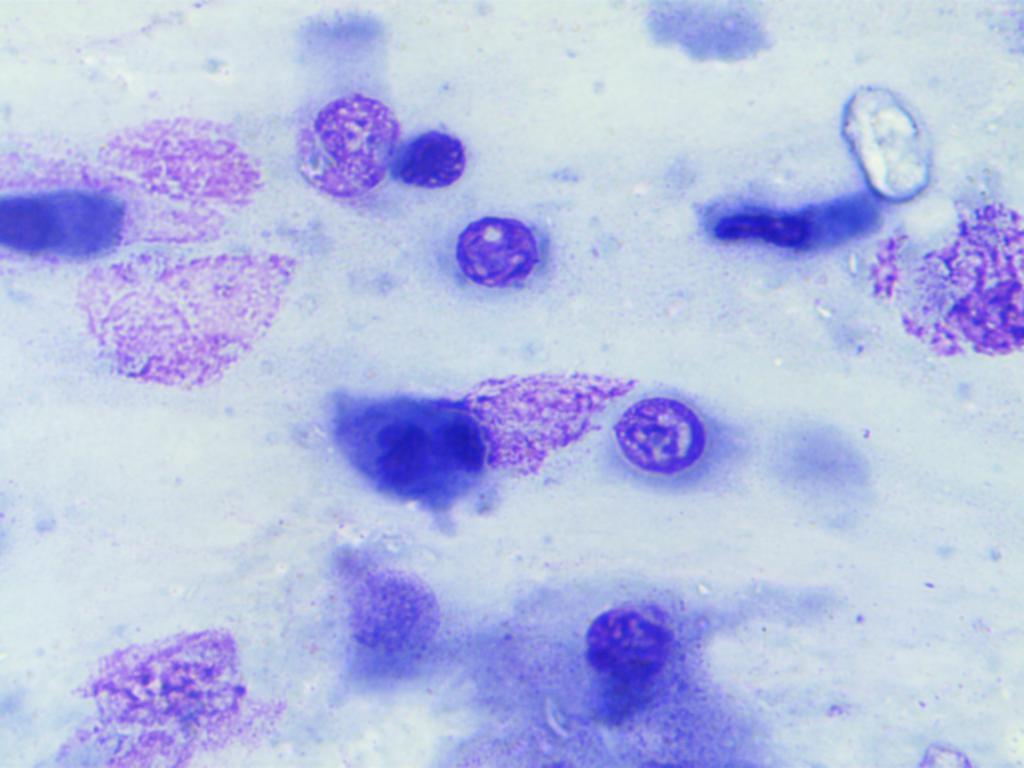artifact: (80, 244, 299, 399), (66, 630, 290, 768), (872, 201, 1024, 366), (93, 120, 265, 250), (469, 364, 641, 481), (838, 70, 940, 202)
ciliated: (288, 4, 401, 200)
epithelial: (306, 550, 444, 680), (428, 210, 556, 315), (575, 588, 687, 701), (614, 396, 738, 497), (392, 119, 476, 208)
metaplastic: (326, 381, 488, 519), (689, 180, 882, 258), (0, 188, 120, 267)
